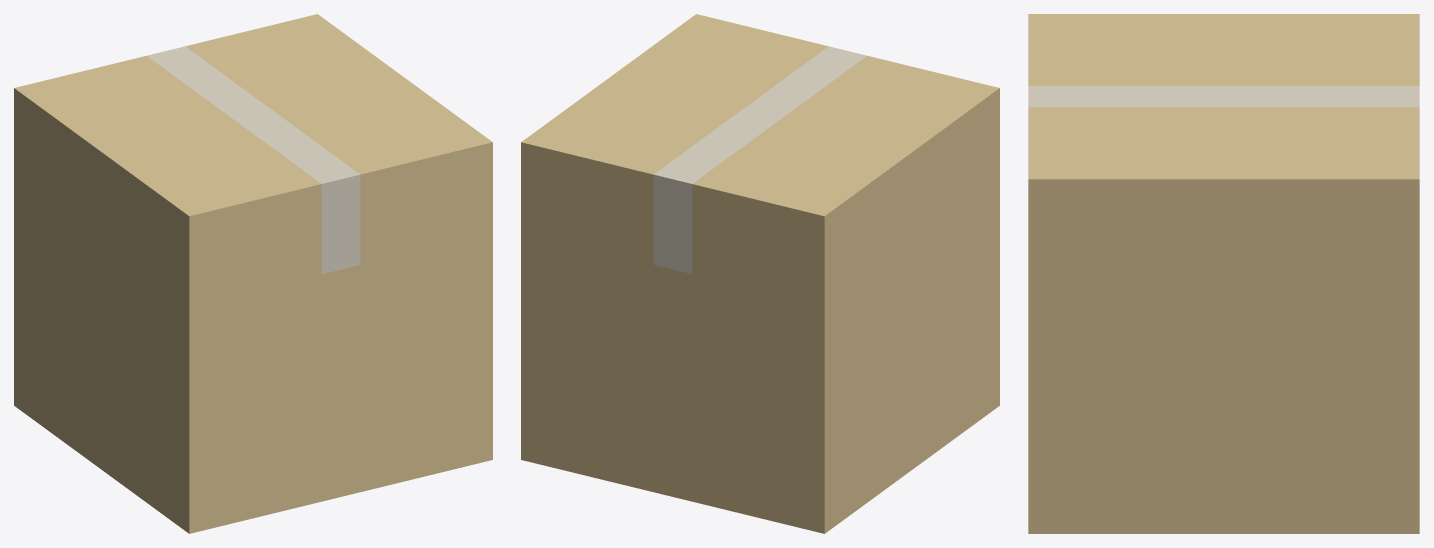
3 views of the same model, side by side, from view 1: azimuth 30°, elevation 25°; view 2: azimuth 150°, elevation 25°; view 3: azimuth 270°, elevation 25° (orthographic). The views are drawn at different scales.
Parts seen in each view (by area): view 1: Box_01; view 2: Box_01; view 3: Box_01.
Boxes of the visible parts, bbox=[...] form: Box_01: bbox=[14, 14, 492, 533]; Box_01: bbox=[521, 14, 999, 533]; Box_01: bbox=[1028, 14, 1419, 533].
Bounding box in the file's own units: 386 × 386 × 386.
